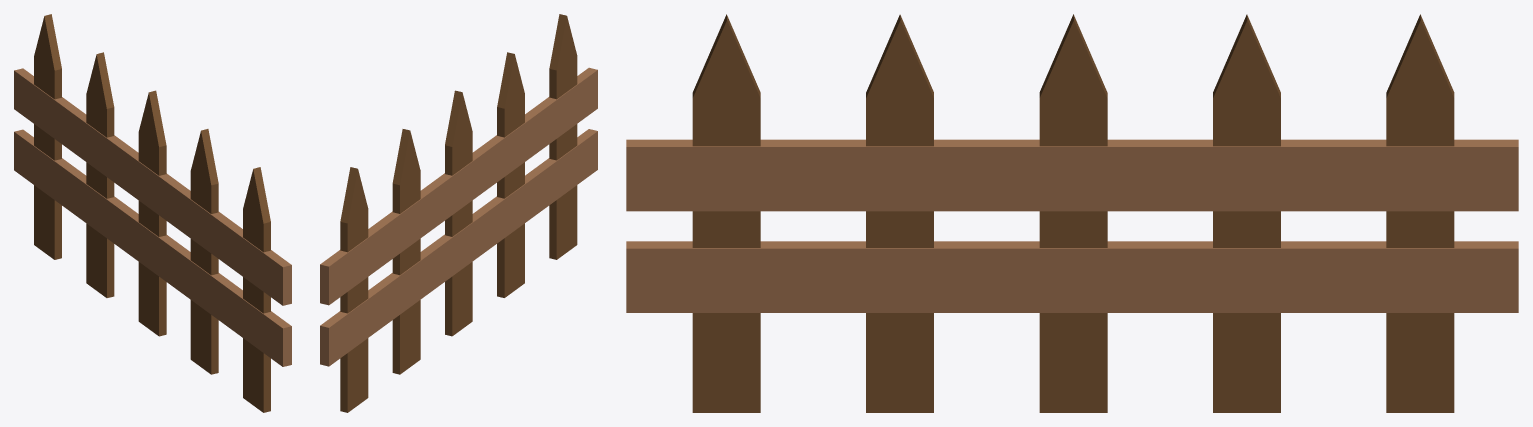
Rendered from BAHÇE ÇİTİ.fbx.
The picture shows the model from 3 angles, left to right: view 1: azimuth 30°, elevation 25°; view 2: azimuth 150°, elevation 25°; view 3: azimuth 270°, elevation 25°; orthographic projection. The views are drawn at different scales.
Visible parts, largest first — view 1: Plane, Cube; view 2: Plane, Cube; view 3: Plane, Cube.
Boxes of the visible parts, x1=… form: Plane: x1=14, y1=68, x2=291, y2=366; Cube: x1=34, y1=14, x2=270, y2=412; Plane: x1=320, y1=67, x2=597, y2=366; Cube: x1=340, y1=14, x2=577, y2=412; Plane: x1=626, y1=139, x2=1518, y2=312; Cube: x1=692, y1=14, x2=1454, y2=412.
Bounding box in the file's own units: 10 × 250 × 515.
